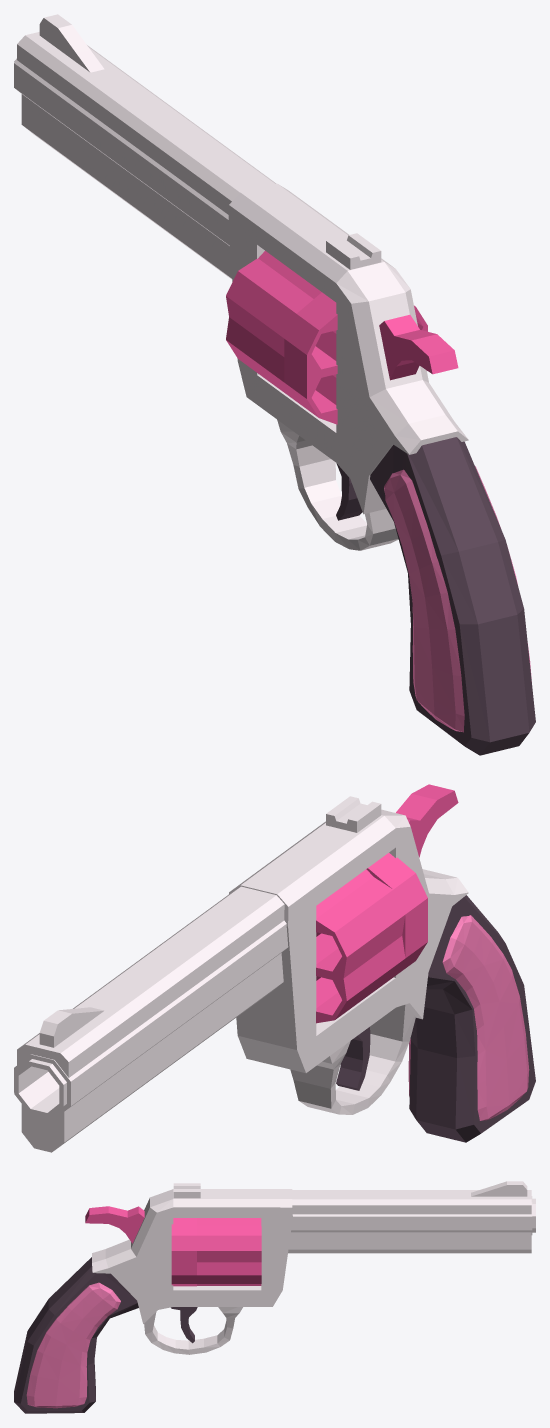
Rendered from Revolver_2.obj.
3 views of the same model, one above another, from view 1: azimuth 30°, elevation 25°; view 2: azimuth 150°, elevation 25°; view 3: azimuth 270°, elevation 25° (orthographic). The views are drawn at different scales.
Parts seen in each view (by area): view 1: Body, Hardware, Accent, Grip; view 2: Body, Accent, Hardware, Grip; view 3: Body, Accent, Grip, Hardware.
Boxes of the visible parts, box(x1,y1,x2,y2) form: Body: box(14, 14, 468, 550); Hardware: box(336, 437, 535, 755); Accent: box(226, 251, 458, 424); Grip: box(384, 466, 531, 732); Body: box(14, 796, 468, 1152); Accent: box(316, 784, 458, 1023); Hardware: box(336, 895, 535, 1142); Grip: box(408, 915, 529, 1120); Body: box(92, 1181, 535, 1354); Accent: box(85, 1206, 261, 1286); Grip: box(26, 1282, 120, 1408); Hardware: box(14, 1257, 197, 1413).
Bounding box in the file's own units: 0.505 × 1.62 × 3.4.
